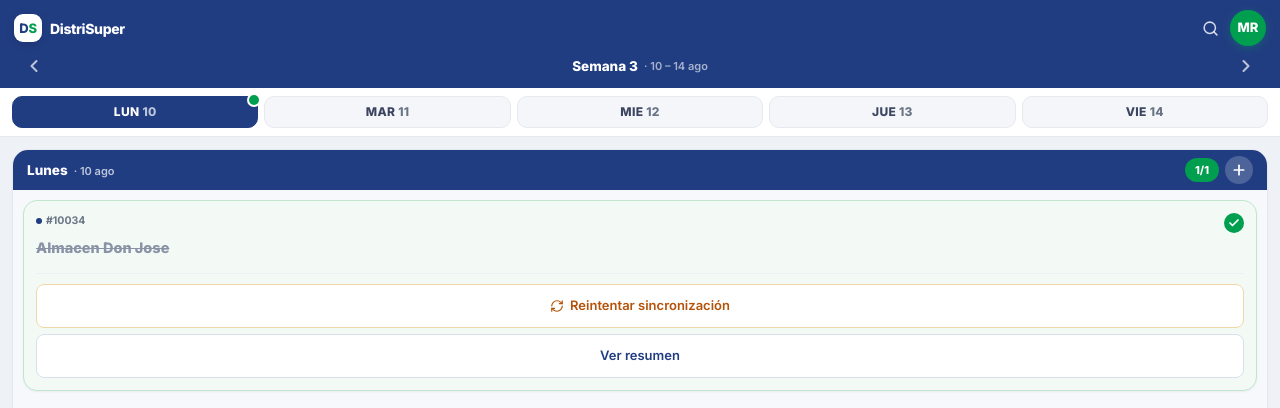
Test: un reintento fallido muestra el mensaje que trae la respuesta, no uno armado en el front
The width and height of the screenshot is (1280, 408).
Step 1. Click the button "Reintentar sincronización" → point(640, 306), box [36,284,1244,328]
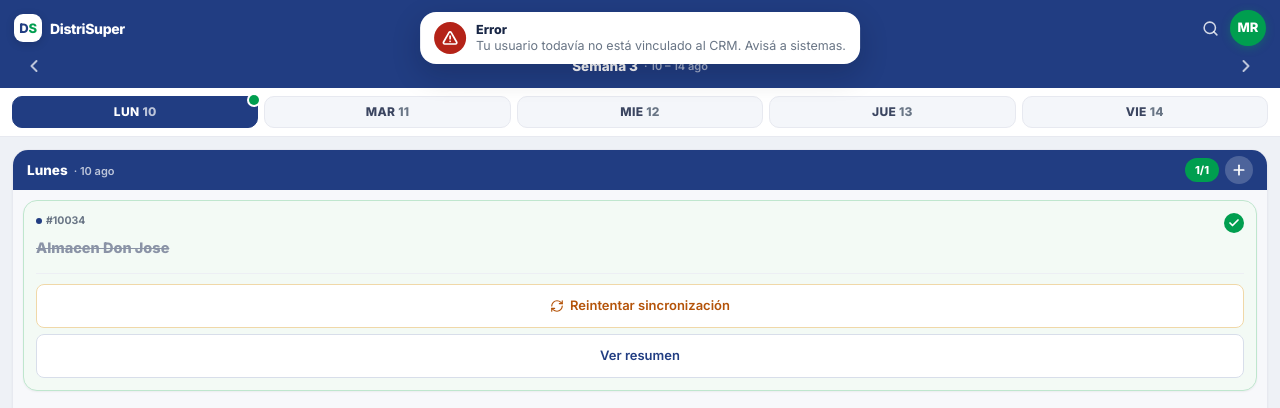
Expected: the text "Tu usuario todavía no está vinculado al CRM. Avisá a sistemas." is shown, [476,38,846,54]
